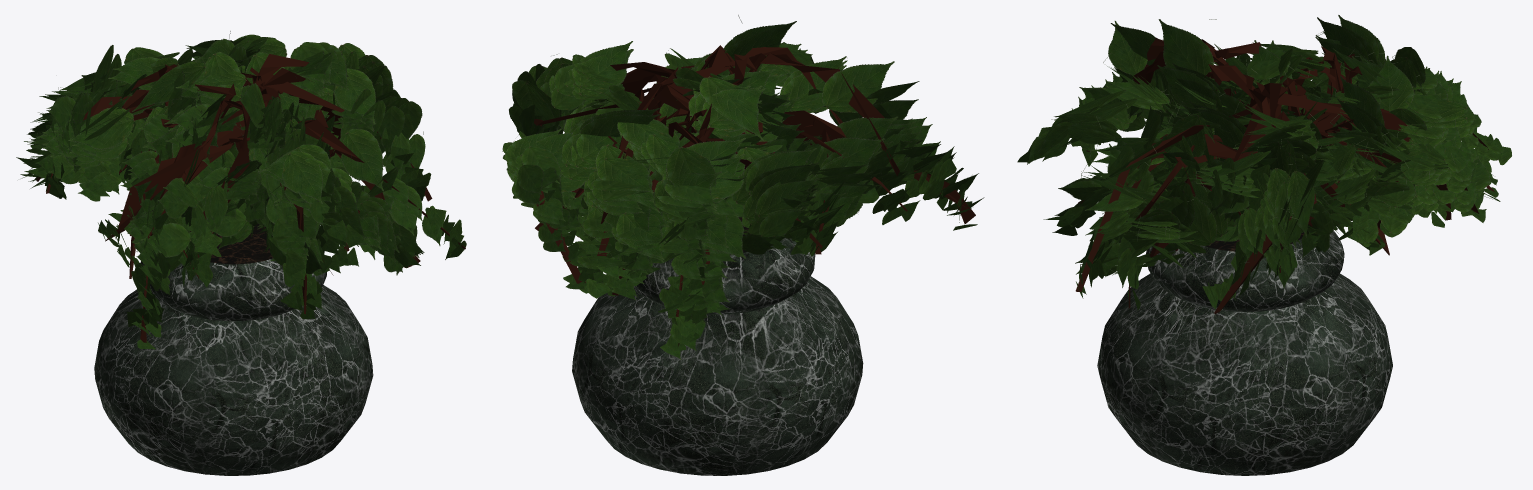
File: VAZA.fbx
3 renders of one model, left to right at view 1: azimuth 30°, elevation 25°; view 2: azimuth 150°, elevation 25°; view 3: azimuth 270°, elevation 25°, orthographic. The views are drawn at different scales.
Visible parts, largest first — view 1: VAZA; view 2: VAZA; view 3: VAZA.
Part boxes in pixels (x1,y1,x2,y2): VAZA: (16, 31, 466, 475); VAZA: (502, 15, 984, 475); VAZA: (1017, 15, 1511, 475).
Size of the model in its own units: 0.4221 by 0.4128 by 0.4649.
